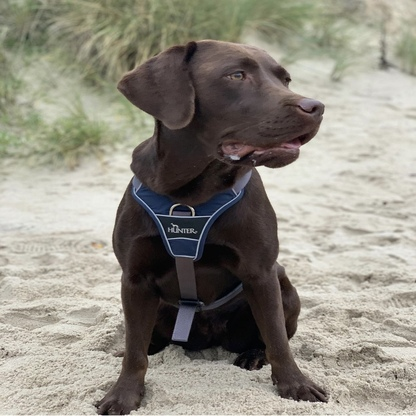labrado: (91, 33, 334, 416)
